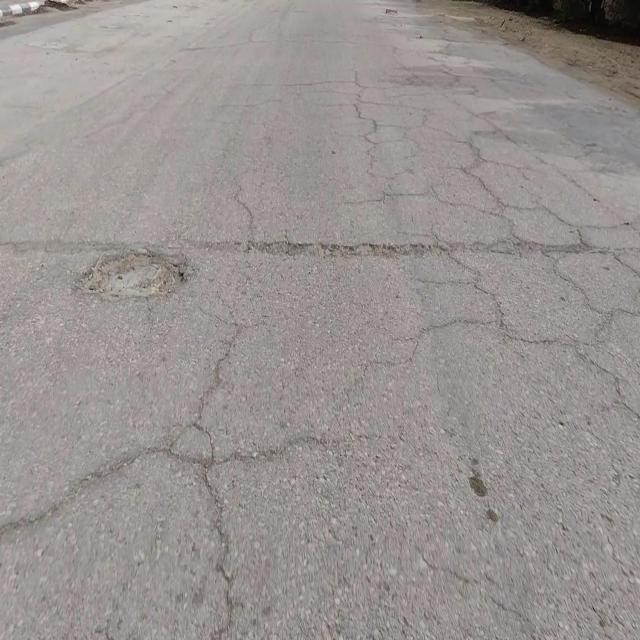Potholes: (75, 247, 188, 305)
